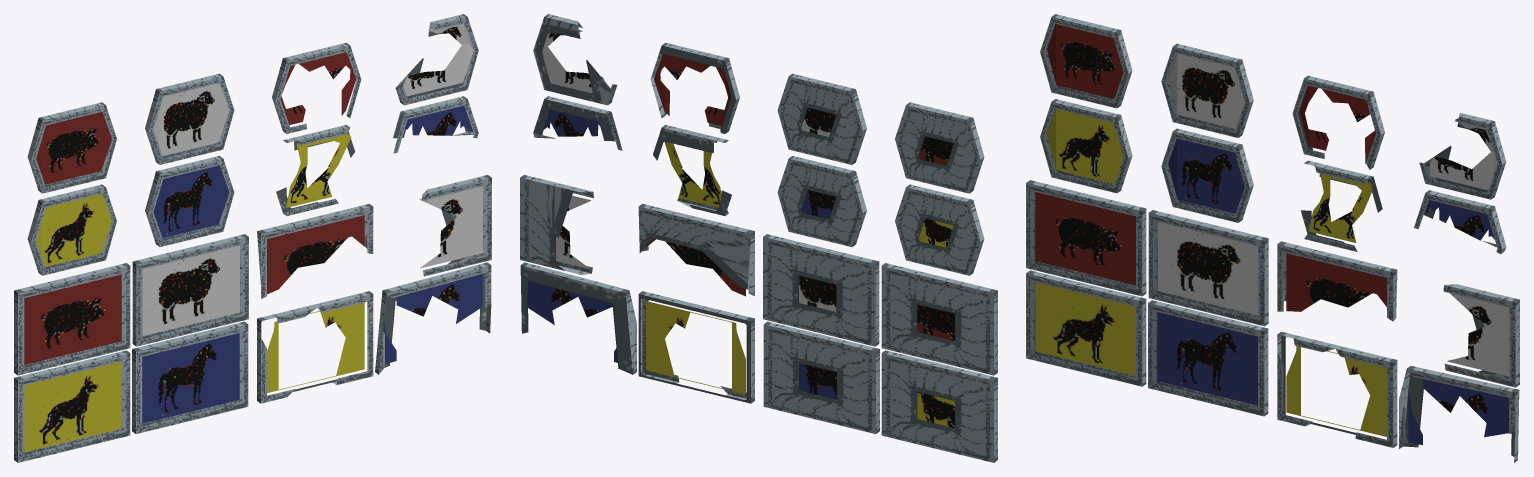
File: SignsUnity.fbx
The picture shows the model from 3 angles, left to right: view 1: azimuth 30°, elevation 25°; view 2: azimuth 150°, elevation 25°; view 3: azimuth 330°, elevation 25°; orthographic projection. The views are drawn at different scales.
Parts seen in each view (by area): view 1: DogSign, HorseSign, PorkSign, SheepSign, HorseSign2, SheepSign2.001, DogSign.002, PorkSign2, PorkSign.001, DogSign.001, HorseSign.001, SheepSign.001 (+4 smaller); view 2: DogSign, HorseSign, PorkSign, SheepSign, HorseSign2, SheepSign2.001, DogSign.002, PorkSign2, PorkSign.001, DogSign.001, HorseSign.001, SheepSign.001 (+4 smaller); view 3: HorseSign, PorkSign, SheepSign, DogSign, SheepSign2.001, HorseSign2, DogSign.002, PorkSign2, PorkSign.001, DogSign.001, HorseSign.001, SheepSign.001 (+4 smaller).
Boxes of the visible parts, box(x1,y1,x2,y2) form: DogSign: box(14, 350, 130, 462); HorseSign: box(132, 321, 248, 433); PorkSign: box(14, 263, 130, 375); SheepSign: box(132, 234, 248, 346); HorseSign2: box(145, 156, 234, 246); SheepSign2.001: box(145, 73, 234, 164); DogSign.002: box(27, 184, 116, 275); PorkSign2: box(27, 102, 116, 193); PorkSign.001: box(257, 203, 373, 298); DogSign.001: box(257, 291, 373, 403); HorseSign.001: box(375, 262, 491, 374); SheepSign.001: box(419, 175, 491, 276); DogSign: box(881, 350, 997, 462); HorseSign: box(763, 321, 879, 433); PorkSign: box(881, 263, 997, 375); SheepSign: box(763, 234, 879, 346); HorseSign2: box(777, 156, 866, 246); SheepSign2.001: box(777, 73, 866, 164); DogSign.002: box(895, 184, 984, 275); PorkSign2: box(895, 102, 984, 193); PorkSign.001: box(638, 203, 754, 296); DogSign.001: box(638, 291, 754, 403); HorseSign.001: box(520, 262, 636, 374); SheepSign.001: box(520, 175, 593, 274); HorseSign: box(1148, 300, 1268, 416); PorkSign: box(1026, 180, 1146, 296); SheepSign: box(1148, 210, 1268, 326); DogSign: box(1026, 270, 1146, 386); SheepSign2.001: box(1161, 43, 1253, 137); HorseSign2: box(1161, 128, 1253, 222); DogSign.002: box(1040, 99, 1132, 193); PorkSign2: box(1040, 14, 1132, 108); PorkSign.001: box(1277, 241, 1397, 321); DogSign.001: box(1277, 331, 1397, 447); HorseSign.001: box(1399, 366, 1519, 462); SheepSign.001: box(1443, 284, 1519, 387).
Size of the model in its own units: 8.43 by 5.72 by 0.133.
